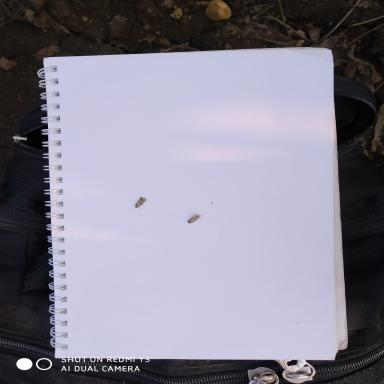pbw: (185, 214, 202, 224), (132, 196, 144, 210)
